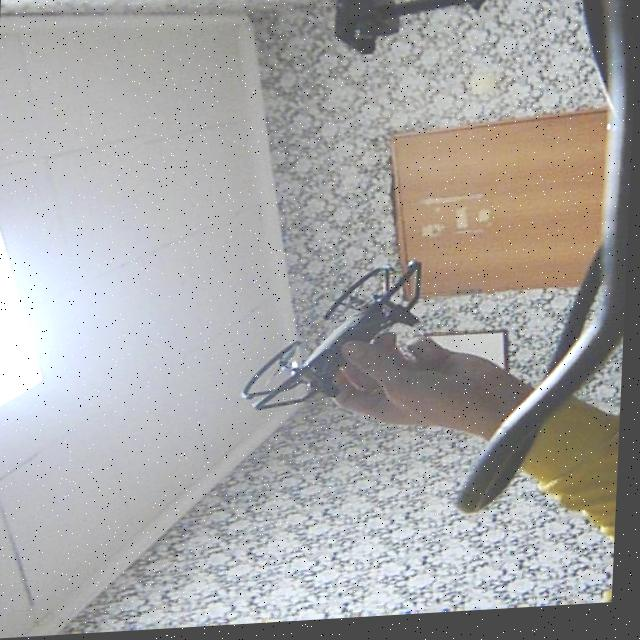drone: (243, 258, 456, 430)
